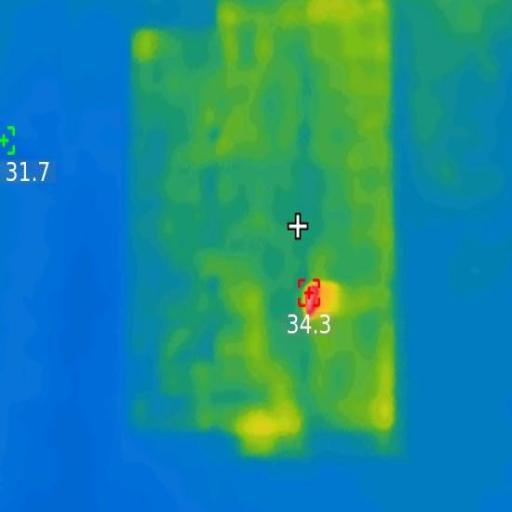hotspot: (296, 275, 330, 320)
